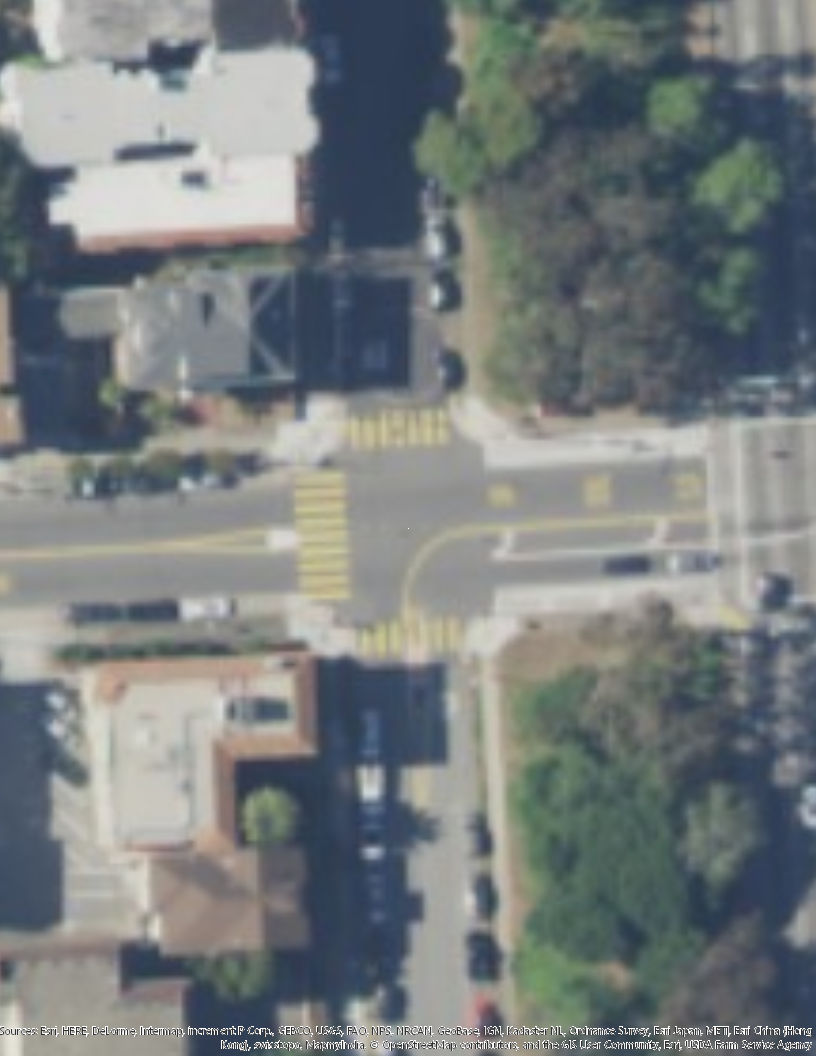zebracross: (292, 469, 354, 601), (351, 400, 455, 450), (362, 618, 479, 654)
